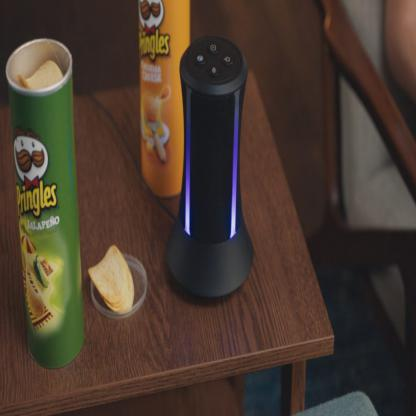potatochip: (8, 26, 86, 365), (138, 0, 193, 203)
